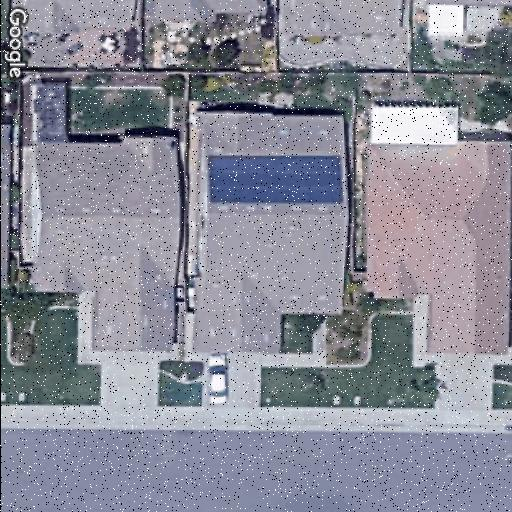solar-panel: (204, 152, 344, 208)
